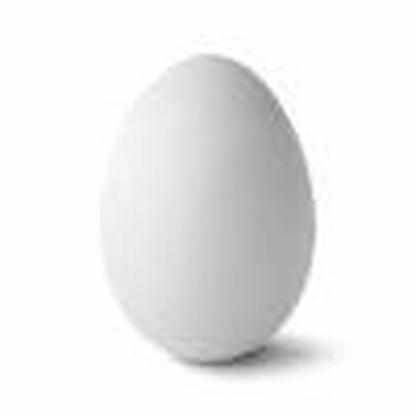egg: (96, 51, 322, 370)
